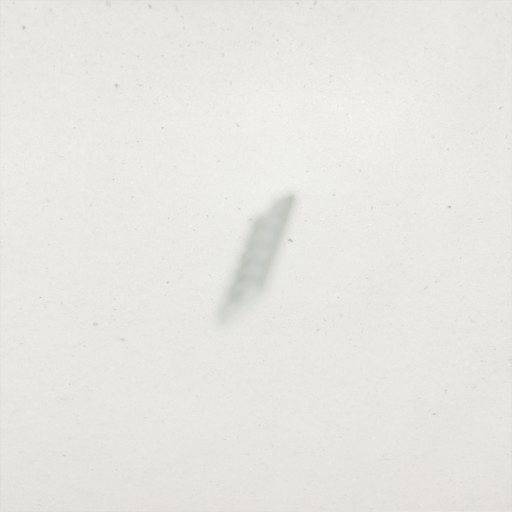lego: (213, 189, 300, 333)
